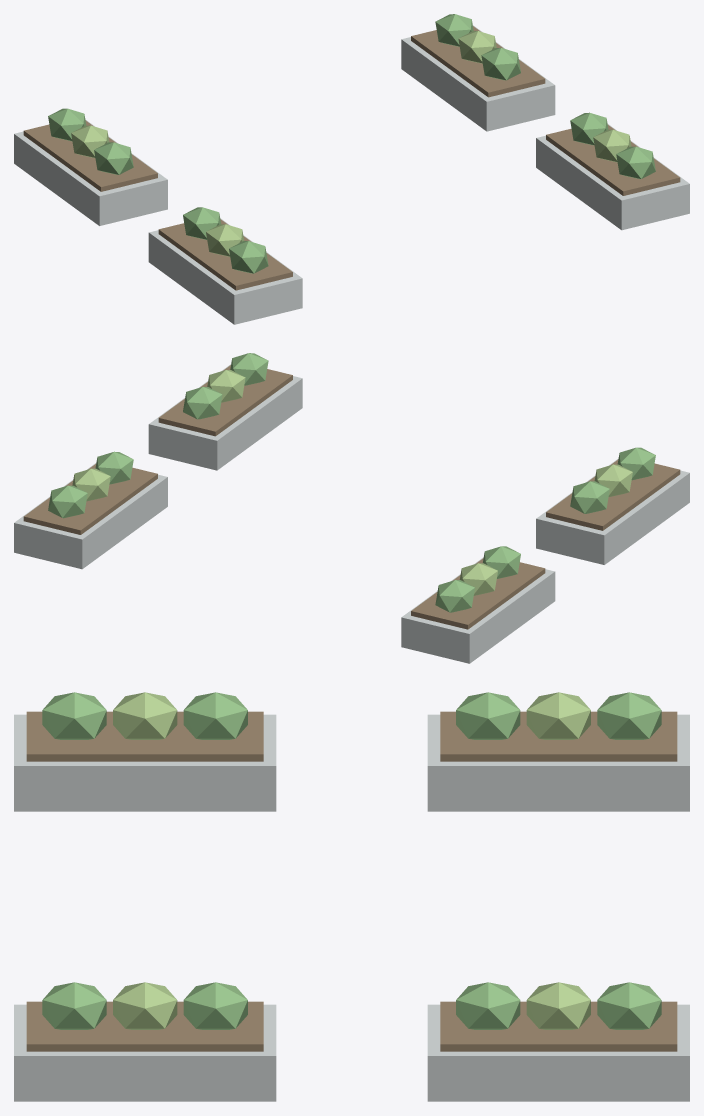
The model's file is one-island-east-garden.glb.
3 renders of one model, top to bottom at view 1: azimuth 30°, elevation 25°; view 2: azimuth 150°, elevation 25°; view 3: azimuth 270°, elevation 25°, orthographic. The views are drawn at different scales.
Parts seen in each view (by area): view 1: OIE rooftop farm raised bed.003, OIE rooftop farm raised bed, OIE rooftop farm raised bed.002, OIE rooftop farm raised bed.001, OIE rooftop farm soil, OIE rooftop farm soil.001, OIE rooftop farm soil.002, OIE rooftop farm soil.003, OIE rooftop farm crop.003, OIE rooftop farm crop.009, OIE rooftop farm crop, OIE rooftop farm crop.006 (+8 smaller); view 2: OIE rooftop farm raised bed.002, OIE rooftop farm raised bed.001, OIE rooftop farm raised bed.003, OIE rooftop farm raised bed, OIE rooftop farm soil, OIE rooftop farm soil.001, OIE rooftop farm soil.003, OIE rooftop farm soil.002, OIE rooftop farm crop.002, OIE rooftop farm crop.008, OIE rooftop farm crop.005, OIE rooftop farm crop.011 (+8 smaller); view 3: OIE rooftop farm raised bed, OIE rooftop farm raised bed.001, OIE rooftop farm raised bed.002, OIE rooftop farm raised bed.003, OIE rooftop farm soil.002, OIE rooftop farm soil.003, OIE rooftop farm soil, OIE rooftop farm soil.001, OIE rooftop farm crop.006, OIE rooftop farm crop.011, OIE rooftop farm crop, OIE rooftop farm crop.001 (+8 smaller).
Boxes of the visible parts, box(x1,y1,x2,y2) form: OIE rooftop farm raised bed.003: box(401, 25, 555, 131); OIE rooftop farm raised bed: box(148, 218, 302, 324); OIE rooftop farm raised bed.002: box(536, 124, 689, 230); OIE rooftop farm raised bed.001: box(14, 119, 167, 225); OIE rooftop farm soil: box(158, 219, 292, 290); OIE rooftop farm soil.001: box(23, 120, 157, 191); OIE rooftop farm soil.002: box(546, 125, 680, 195); OIE rooftop farm soil.003: box(411, 26, 545, 97); OIE rooftop farm crop.003: box(94, 142, 133, 174); OIE rooftop farm crop.009: box(481, 47, 520, 80); OIE rooftop farm crop: box(229, 241, 268, 273); OIE rooftop farm crop.006: box(616, 146, 655, 179); OIE rooftop farm raised bed.002: box(148, 364, 302, 470); OIE rooftop farm raised bed.001: box(401, 557, 555, 663); OIE rooftop farm raised bed.003: box(14, 463, 167, 569); OIE rooftop farm raised bed: box(536, 458, 689, 564); OIE rooftop farm soil: box(546, 459, 680, 530); OIE rooftop farm soil.001: box(411, 558, 545, 629); OIE rooftop farm soil.003: box(23, 464, 157, 534); OIE rooftop farm soil.002: box(158, 365, 292, 436); OIE rooftop farm crop.002: box(570, 481, 609, 513); OIE rooftop farm crop.008: box(183, 386, 222, 419); OIE rooftop farm crop.005: box(435, 580, 474, 612); OIE rooftop farm crop.011: box(48, 485, 87, 518); OIE rooftop farm raised bed: box(14, 714, 276, 811); OIE rooftop farm raised bed.001: box(427, 714, 689, 811); OIE rooftop farm raised bed.002: box(14, 1004, 276, 1101); OIE rooftop farm raised bed.003: box(427, 1004, 689, 1101); OIE rooftop farm soil.002: box(26, 1001, 263, 1051); OIE rooftop farm soil.003: box(440, 1001, 677, 1051); OIE rooftop farm soil: box(26, 711, 263, 761); OIE rooftop farm soil.001: box(440, 711, 677, 761); OIE rooftop farm crop.006: box(42, 982, 106, 1029); OIE rooftop farm crop.011: box(597, 982, 661, 1029); OIE rooftop farm crop: box(42, 692, 106, 739); OIE rooftop farm crop.001: box(113, 692, 177, 739).
Size of the model in its own units: 1.6 by 0.205 by 1.34.
